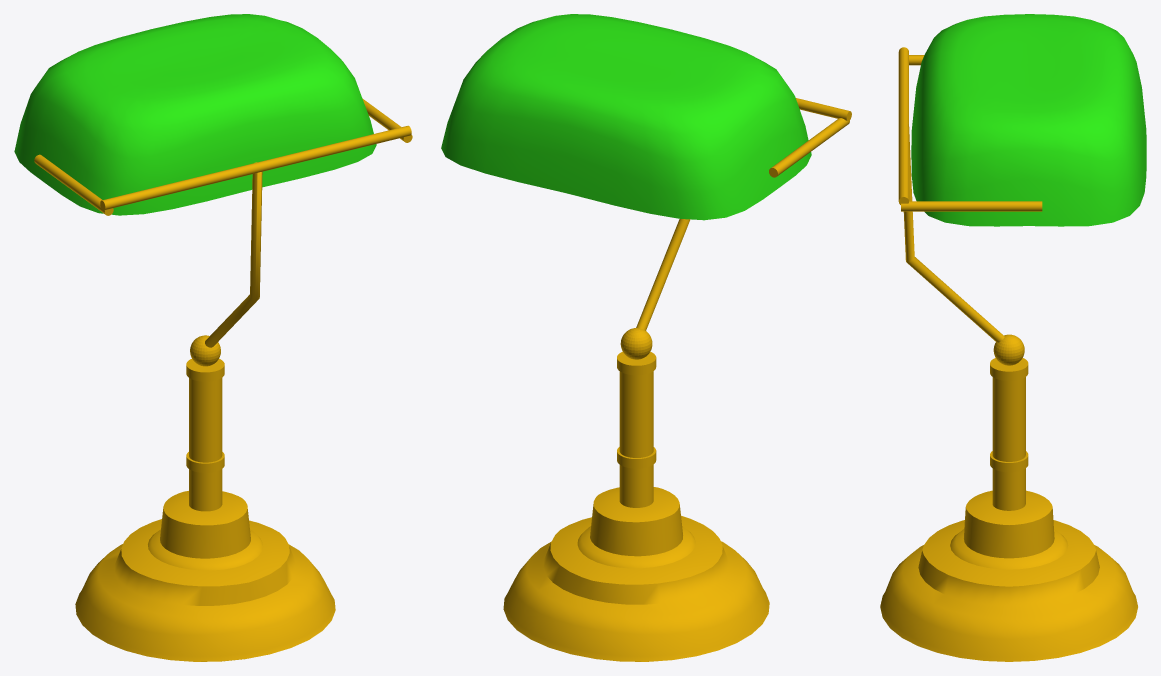
Rendered from GreenLamp.fbx.
3 views of the same model, side by side, from view 1: azimuth 30°, elevation 25°; view 2: azimuth 150°, elevation 25°; view 3: azimuth 270°, elevation 25° (orthographic). The views are drawn at different scales.
Visible parts, largest first — view 1: Sphere.004, Sphere.001, Sphere.002; view 2: Sphere.004, Sphere.001, Sphere.002; view 3: Sphere.004, Sphere.001, Sphere.002.
Part boxes in pixels (x1=…): Sphere.004: x1=14, y1=14, x2=376, y2=215; Sphere.001: x1=34, y1=98, x2=412, y2=661; Sphere.002: x1=190, y1=335, x2=220, y2=366; Sphere.004: x1=441, y1=14, x2=811, y2=220; Sphere.001: x1=503, y1=98, x2=851, y2=661; Sphere.002: x1=620, y1=328, x2=652, y2=359; Sphere.004: x1=911, y1=14, x2=1146, y2=226; Sphere.001: x1=880, y1=47, x2=1137, y2=661; Sphere.002: x1=993, y1=334, x2=1024, y2=365.
Size of the model in its own units: 278 by 468 by 208.
